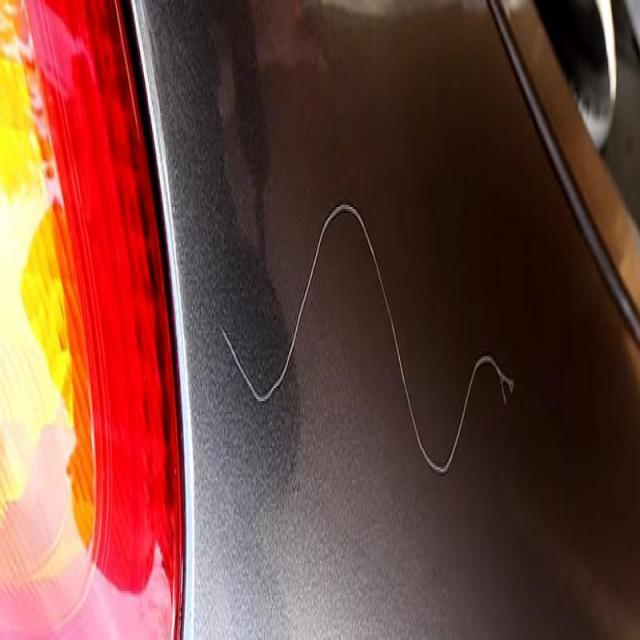scratch: (215, 172, 520, 492)
